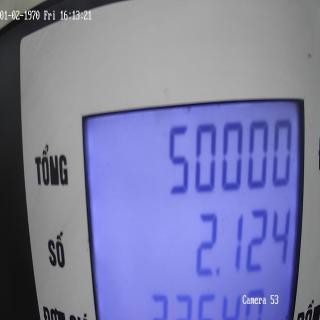screen: (76, 95, 310, 320)
